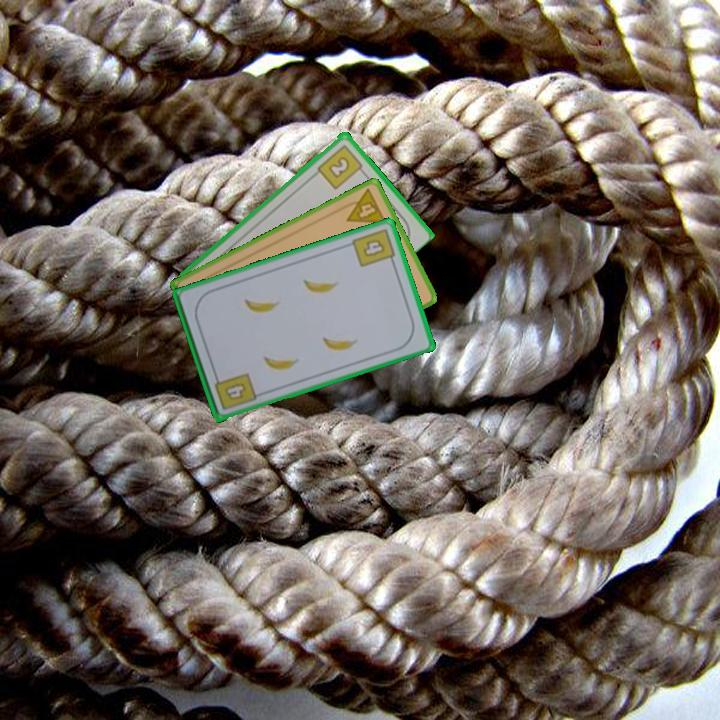2b: (314, 141, 368, 192)
4b: (349, 224, 398, 270), (211, 369, 259, 413)
4p: (337, 185, 389, 227)
